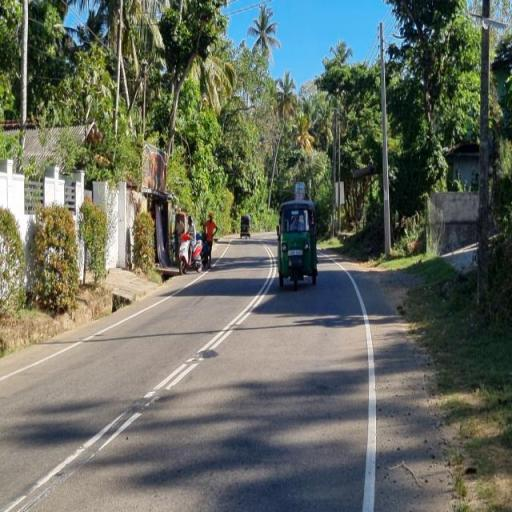double_white_line: (142, 242, 274, 405)
